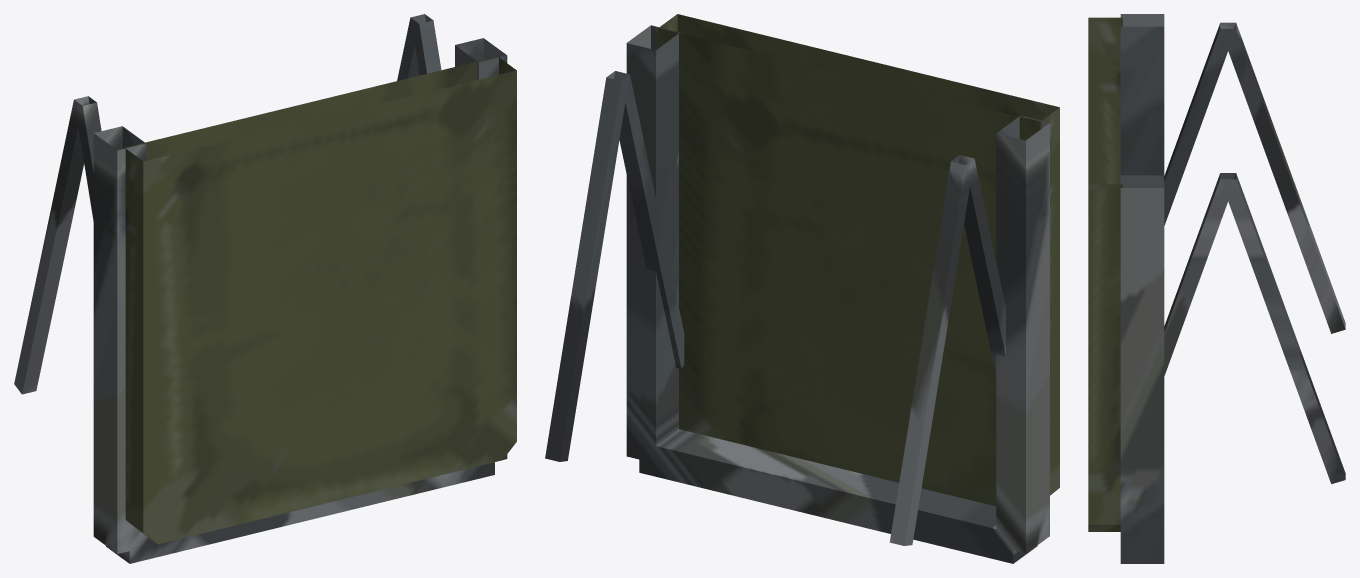
Rendered from pz_bed_bedding_01_stretcher_0_0.obj.
3 renders of one model, left to right at view 1: azimuth 30°, elevation 25°; view 2: azimuth 150°, elevation 25°; view 3: azimuth 270°, elevation 25°, orthographic. The views are drawn at different scales.
Size of the model in its own units: 0.95 by 0.97 by 0.5935.
Materials: 1 (1 with a texture image).
